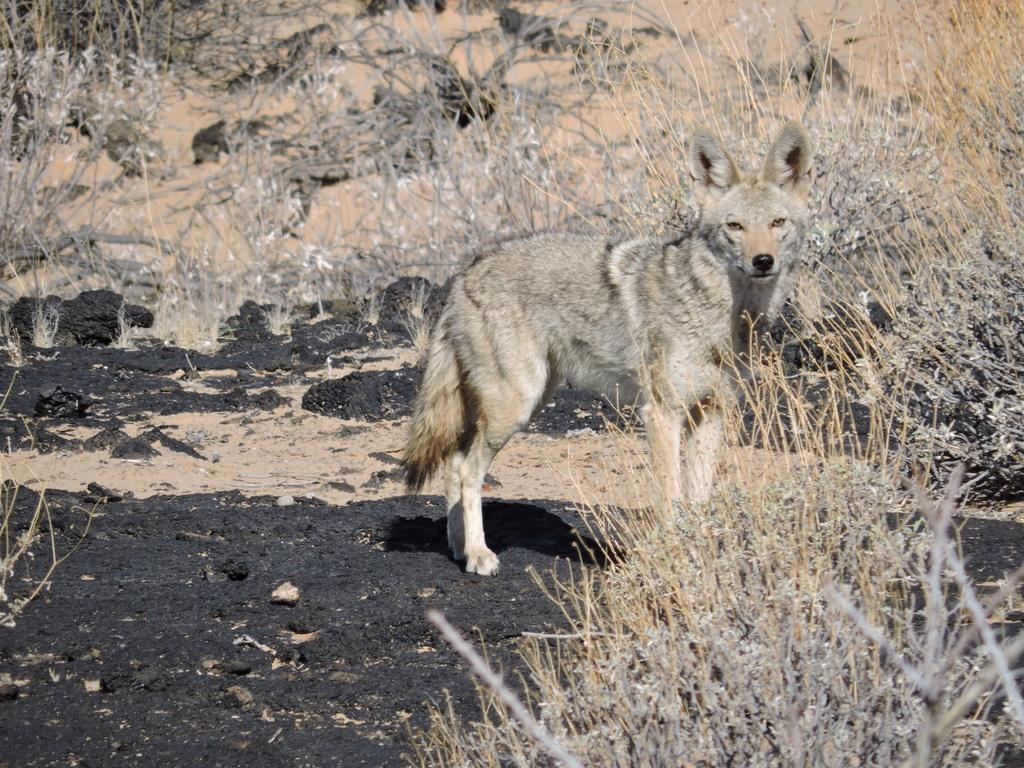Coyote: (398, 114, 822, 580)
